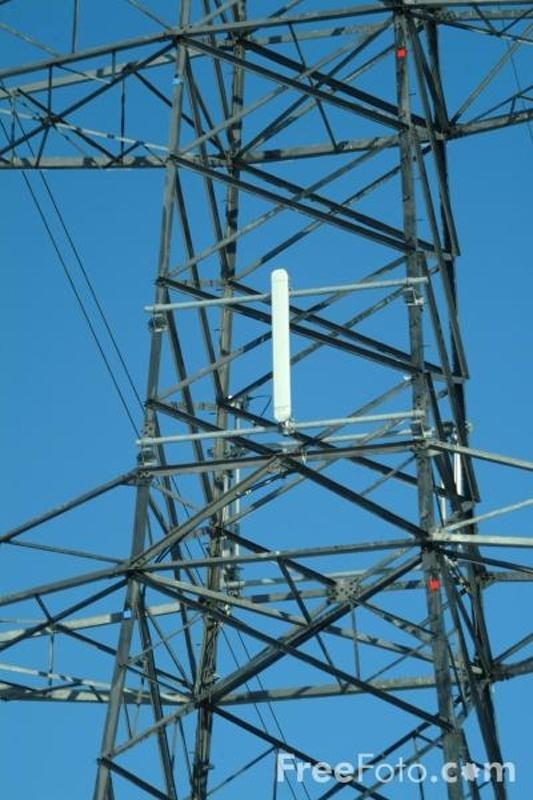power_tower: (16, 8, 523, 789)
